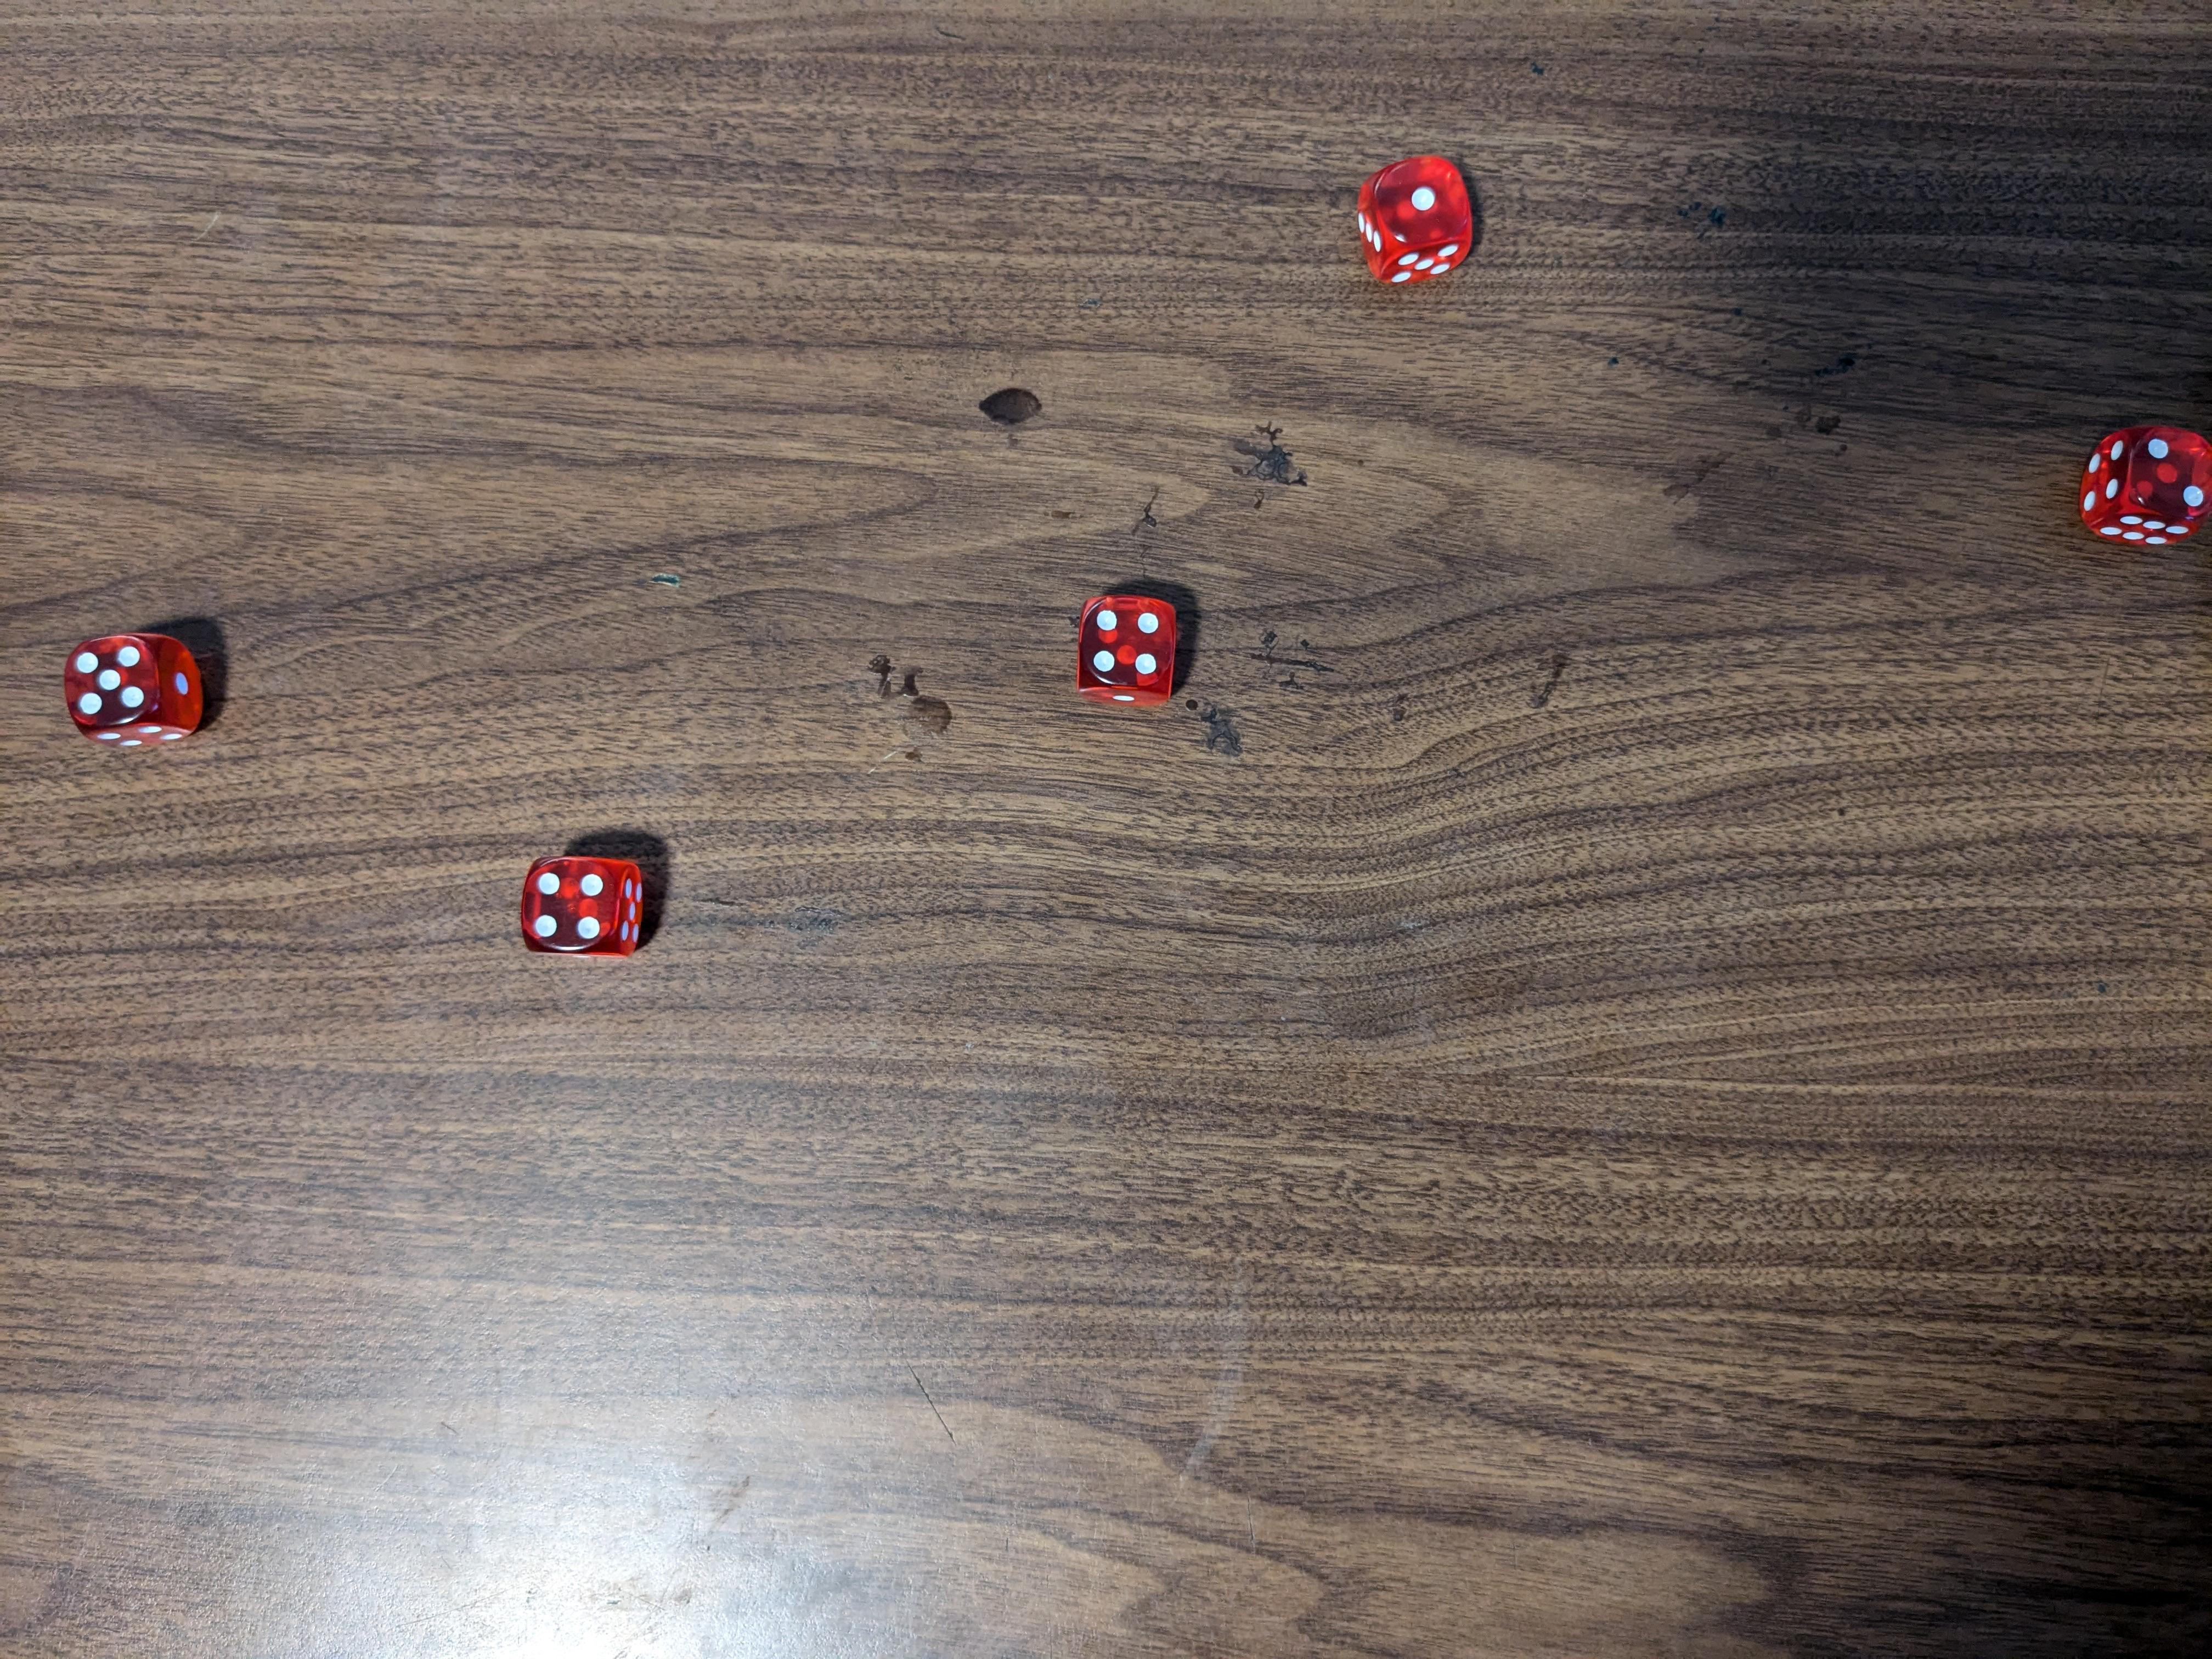five: (63, 627, 204, 746)
four: (519, 843, 650, 964), (1071, 589, 1186, 708)
one: (1357, 152, 1479, 288)
two: (2076, 420, 2212, 558)
